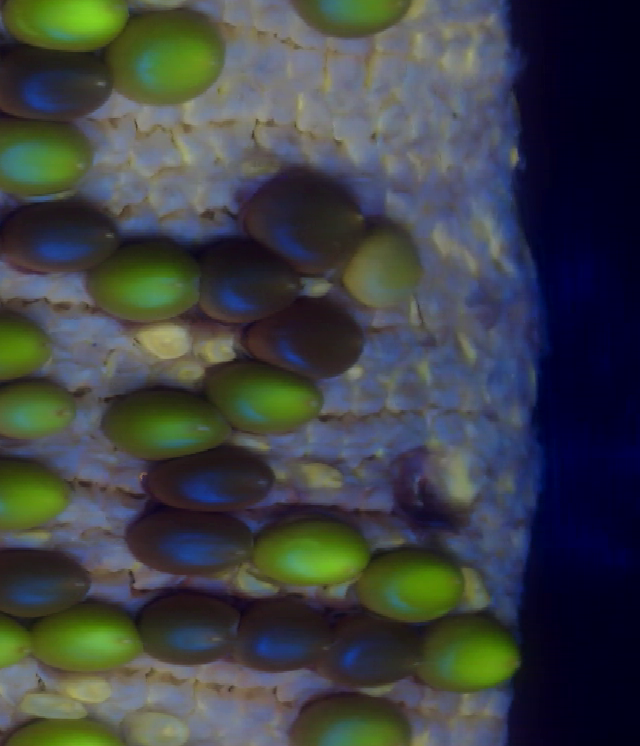fluorescent: (104, 6, 228, 102), (205, 353, 325, 435), (92, 242, 207, 323), (413, 614, 528, 694), (105, 384, 230, 457), (247, 519, 367, 589), (344, 217, 429, 315), (0, 110, 92, 195), (35, 606, 146, 675), (364, 553, 470, 625), (0, 1, 134, 55), (291, 692, 416, 746), (0, 463, 80, 530), (0, 377, 83, 440), (296, 1, 409, 40), (0, 716, 133, 746), (0, 312, 55, 380), (0, 605, 38, 674)
nonfluorescent: (239, 161, 381, 275), (241, 294, 368, 380), (0, 40, 121, 123), (0, 198, 124, 277), (139, 445, 286, 510), (125, 503, 253, 576), (198, 233, 299, 321), (132, 593, 242, 668), (329, 610, 428, 693), (236, 595, 328, 676), (0, 545, 98, 616)
